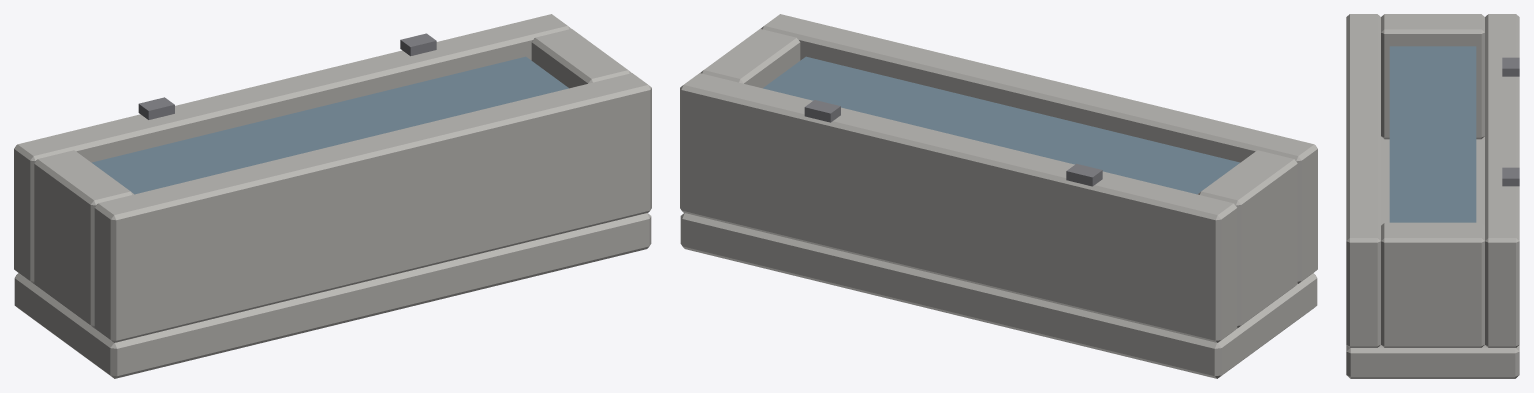
Rendered from prop-cloister-trough-stone.fbx.
3 views of the same model, side by side, from view 1: azimuth 30°, elevation 25°; view 2: azimuth 150°, elevation 25°; view 3: azimuth 270°, elevation 25° (orthographic). The views are drawn at different scales.
Parts seen in each view (by area): view 1: prop-cloister-trough-stone; view 2: prop-cloister-trough-stone; view 3: prop-cloister-trough-stone.
Part boxes in pixels (box(x1,y1,x2,y2)): prop-cloister-trough-stone: box(14, 14, 651, 378); prop-cloister-trough-stone: box(680, 14, 1317, 378); prop-cloister-trough-stone: box(1346, 14, 1519, 378).
Size of the model in its own units: 1.24 by 0.38 by 0.4.
